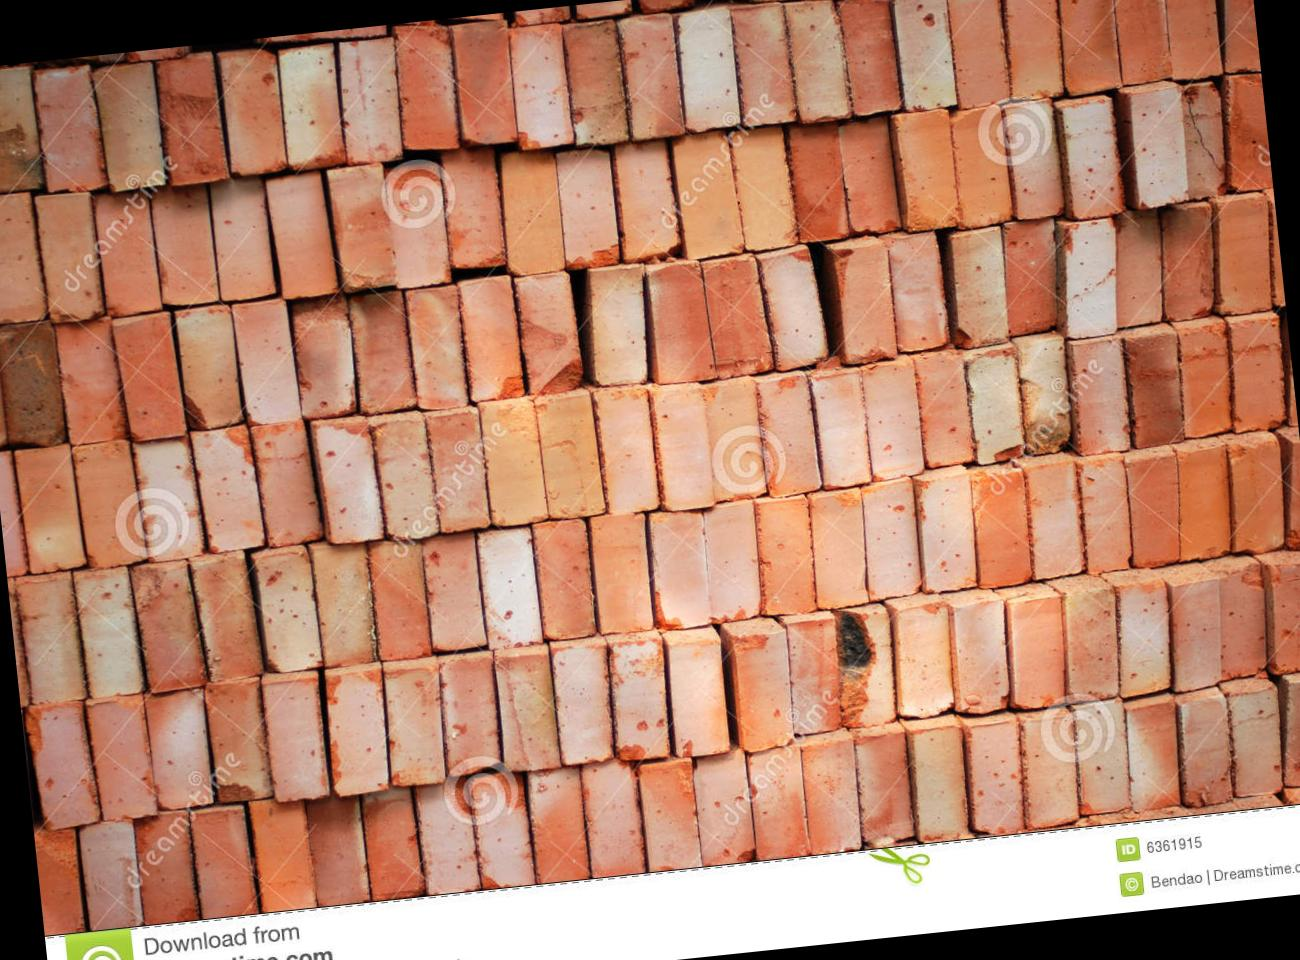brick: (130, 560, 206, 694), (73, 439, 147, 570), (190, 424, 264, 554), (25, 700, 100, 830), (33, 64, 107, 195), (671, 130, 745, 260), (155, 56, 229, 186), (94, 62, 167, 192), (131, 434, 205, 562), (326, 164, 398, 295), (266, 171, 339, 300), (74, 565, 143, 700), (14, 444, 86, 574), (311, 415, 383, 545), (192, 553, 263, 683), (113, 313, 186, 441), (250, 420, 323, 548), (86, 696, 158, 823), (16, 571, 86, 704), (322, 667, 393, 797), (391, 21, 459, 154), (380, 659, 450, 787), (334, 37, 405, 166), (34, 191, 103, 322), (370, 410, 439, 541), (534, 392, 605, 519), (93, 189, 162, 317), (56, 318, 125, 446), (701, 255, 773, 380), (479, 399, 548, 528), (254, 547, 323, 674), (218, 49, 287, 177), (277, 43, 345, 171), (730, 126, 799, 251), (618, 12, 685, 140), (497, 149, 565, 276), (515, 270, 583, 396), (1056, 217, 1126, 339), (232, 299, 300, 426), (262, 675, 330, 803), (673, 6, 741, 133), (647, 260, 717, 384), (1207, 195, 1278, 316), (507, 24, 574, 150), (175, 306, 243, 430), (760, 247, 829, 371), (0, 321, 66, 450), (451, 19, 518, 146), (385, 164, 452, 289), (606, 637, 673, 762), (585, 264, 654, 388), (347, 291, 416, 414), (458, 276, 525, 402), (754, 372, 821, 499), (311, 541, 377, 667), (204, 678, 272, 803), (144, 688, 213, 811), (729, 630, 797, 752), (563, 19, 629, 146), (730, 1, 796, 126), (614, 139, 681, 262), (588, 512, 656, 635), (291, 299, 359, 420), (751, 496, 820, 617), (494, 649, 560, 773), (595, 387, 659, 516), (551, 642, 618, 765), (913, 470, 980, 593), (805, 488, 872, 610), (646, 509, 713, 631), (652, 384, 716, 511), (209, 179, 275, 302), (1126, 86, 1192, 209), (555, 147, 621, 271), (248, 796, 317, 914), (834, 241, 898, 365), (476, 527, 542, 649), (436, 654, 502, 776), (439, 149, 507, 268), (1109, 579, 1177, 698), (784, 0, 849, 123), (858, 479, 924, 601), (189, 806, 258, 920), (468, 771, 535, 890), (997, 218, 1065, 335), (1168, 446, 1236, 561), (702, 377, 766, 501), (367, 538, 431, 662), (151, 187, 217, 307), (1155, 202, 1220, 322), (665, 640, 732, 758), (532, 518, 595, 641), (1067, 337, 1132, 456), (969, 469, 1035, 589), (421, 533, 486, 652), (894, 108, 958, 230), (950, 106, 1013, 228), (425, 411, 489, 533), (1021, 459, 1086, 579), (580, 758, 645, 878), (831, 611, 896, 729), (963, 720, 1028, 838), (1223, 317, 1290, 433), (406, 286, 467, 411), (700, 502, 764, 623), (782, 617, 847, 736), (948, 598, 1013, 715), (746, 744, 811, 861), (1004, 595, 1071, 710), (1015, 715, 1082, 830), (892, 602, 957, 720), (691, 748, 756, 866), (1164, 577, 1230, 691), (948, 228, 1010, 349), (1105, 209, 1169, 328), (1125, 329, 1189, 448), (1063, 99, 1125, 219), (962, 347, 1025, 465), (798, 738, 863, 854), (525, 767, 589, 883), (415, 780, 479, 896), (1058, 589, 1124, 701), (907, 726, 971, 843), (1224, 440, 1289, 555), (1003, 99, 1065, 219), (1074, 454, 1135, 574), (862, 362, 925, 481), (838, 117, 901, 233), (1172, 321, 1235, 437), (837, 0, 900, 116), (786, 124, 848, 243), (809, 369, 871, 489), (1123, 452, 1187, 567), (134, 810, 198, 925), (1069, 703, 1133, 816), (886, 232, 948, 350), (945, 0, 1011, 109), (912, 350, 974, 467), (851, 731, 914, 844), (306, 796, 370, 906), (79, 821, 143, 931), (361, 788, 424, 901), (1225, 685, 1288, 797), (893, 0, 956, 112), (638, 758, 699, 871), (1122, 702, 1186, 811), (1015, 337, 1074, 455), (1211, 565, 1271, 681), (1175, 694, 1236, 806), (1001, 0, 1067, 101), (1219, 72, 1273, 192), (1055, 0, 1122, 95), (0, 192, 45, 326), (1179, 82, 1229, 199), (33, 825, 85, 935), (0, 66, 41, 193), (1110, 0, 1172, 84), (1160, 0, 1224, 80), (1265, 560, 1300, 673), (1213, 0, 1260, 73), (1273, 675, 1300, 787)
